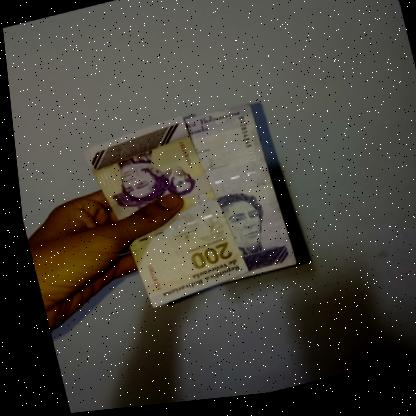vef_front: (73, 108, 246, 319), (179, 104, 292, 289)
